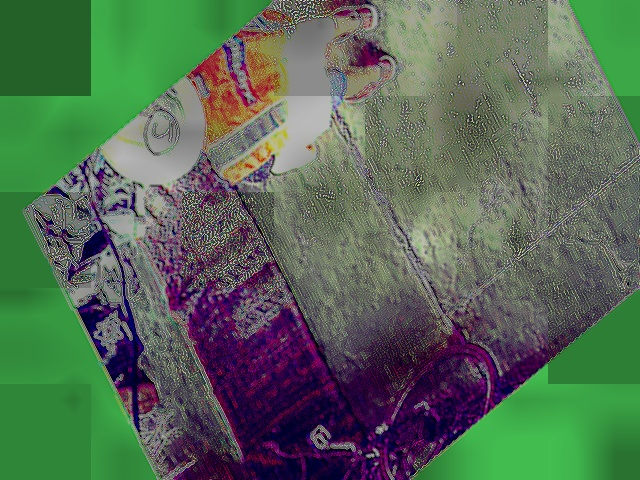two: (135, 101, 183, 163)
